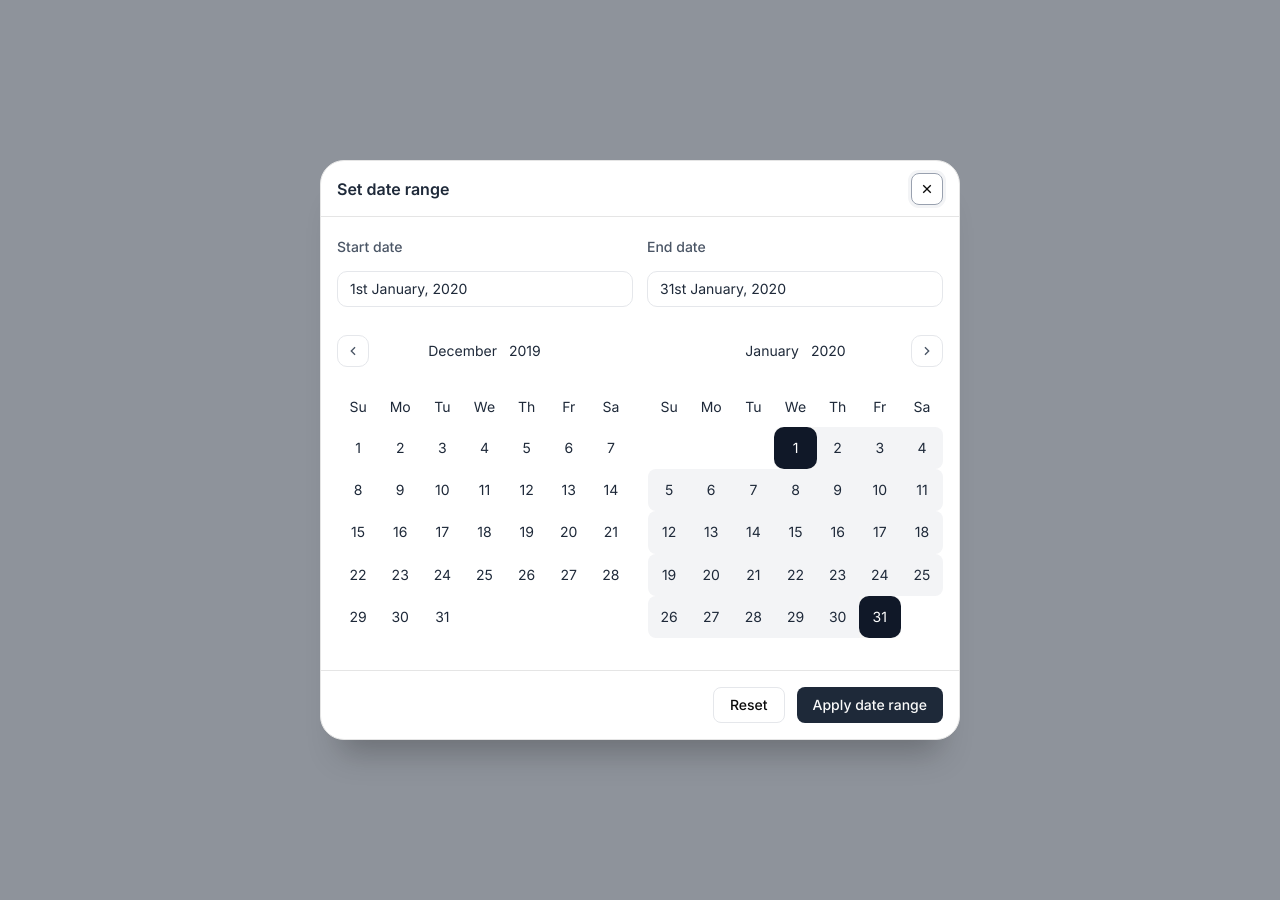
Test: date range filter › clears the current range with Reset and keeps the dialog open
This screenshot has width=1280, height=900.
Check: the text "1st January, 2020" is shown, box x1=337 y1=271 x2=633 y2=307
Check: the text "31st January, 2020" is shown, box x1=647 y1=271 x2=943 y2=307
Click the button "Reset": (749, 705) x1=713 y1=687 x2=784 y2=723
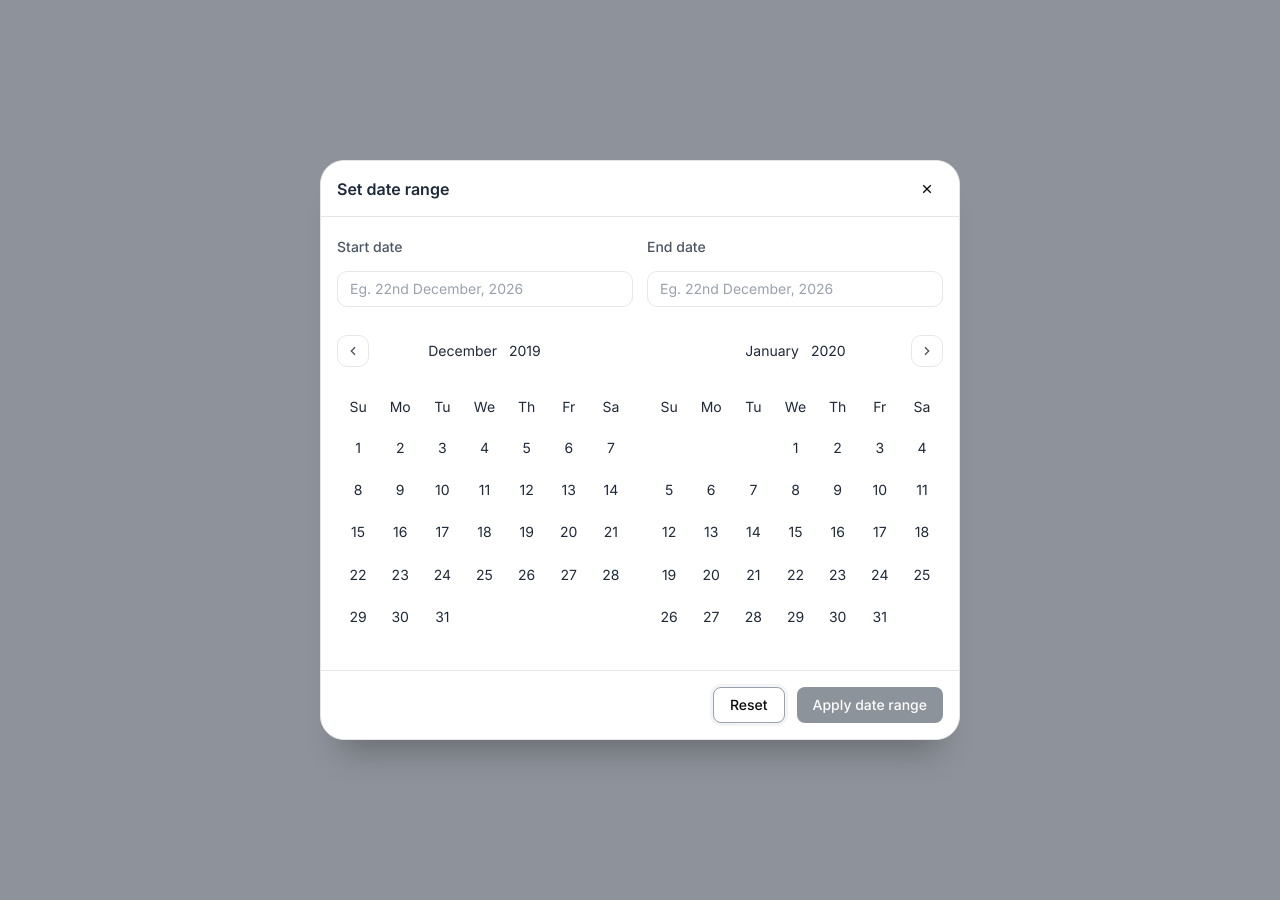
Check: the dialog "Set date range" is shown, box x1=320 y1=160 x2=960 y2=740
Check: the text "1st January, 2020" is gone
Check: the text "31st January, 2020" is gone
